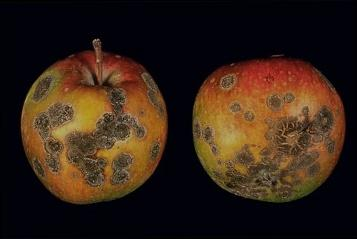rotten apple: (189, 46, 348, 206), (16, 46, 169, 207)
